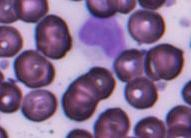M: (78, 16, 127, 60)
